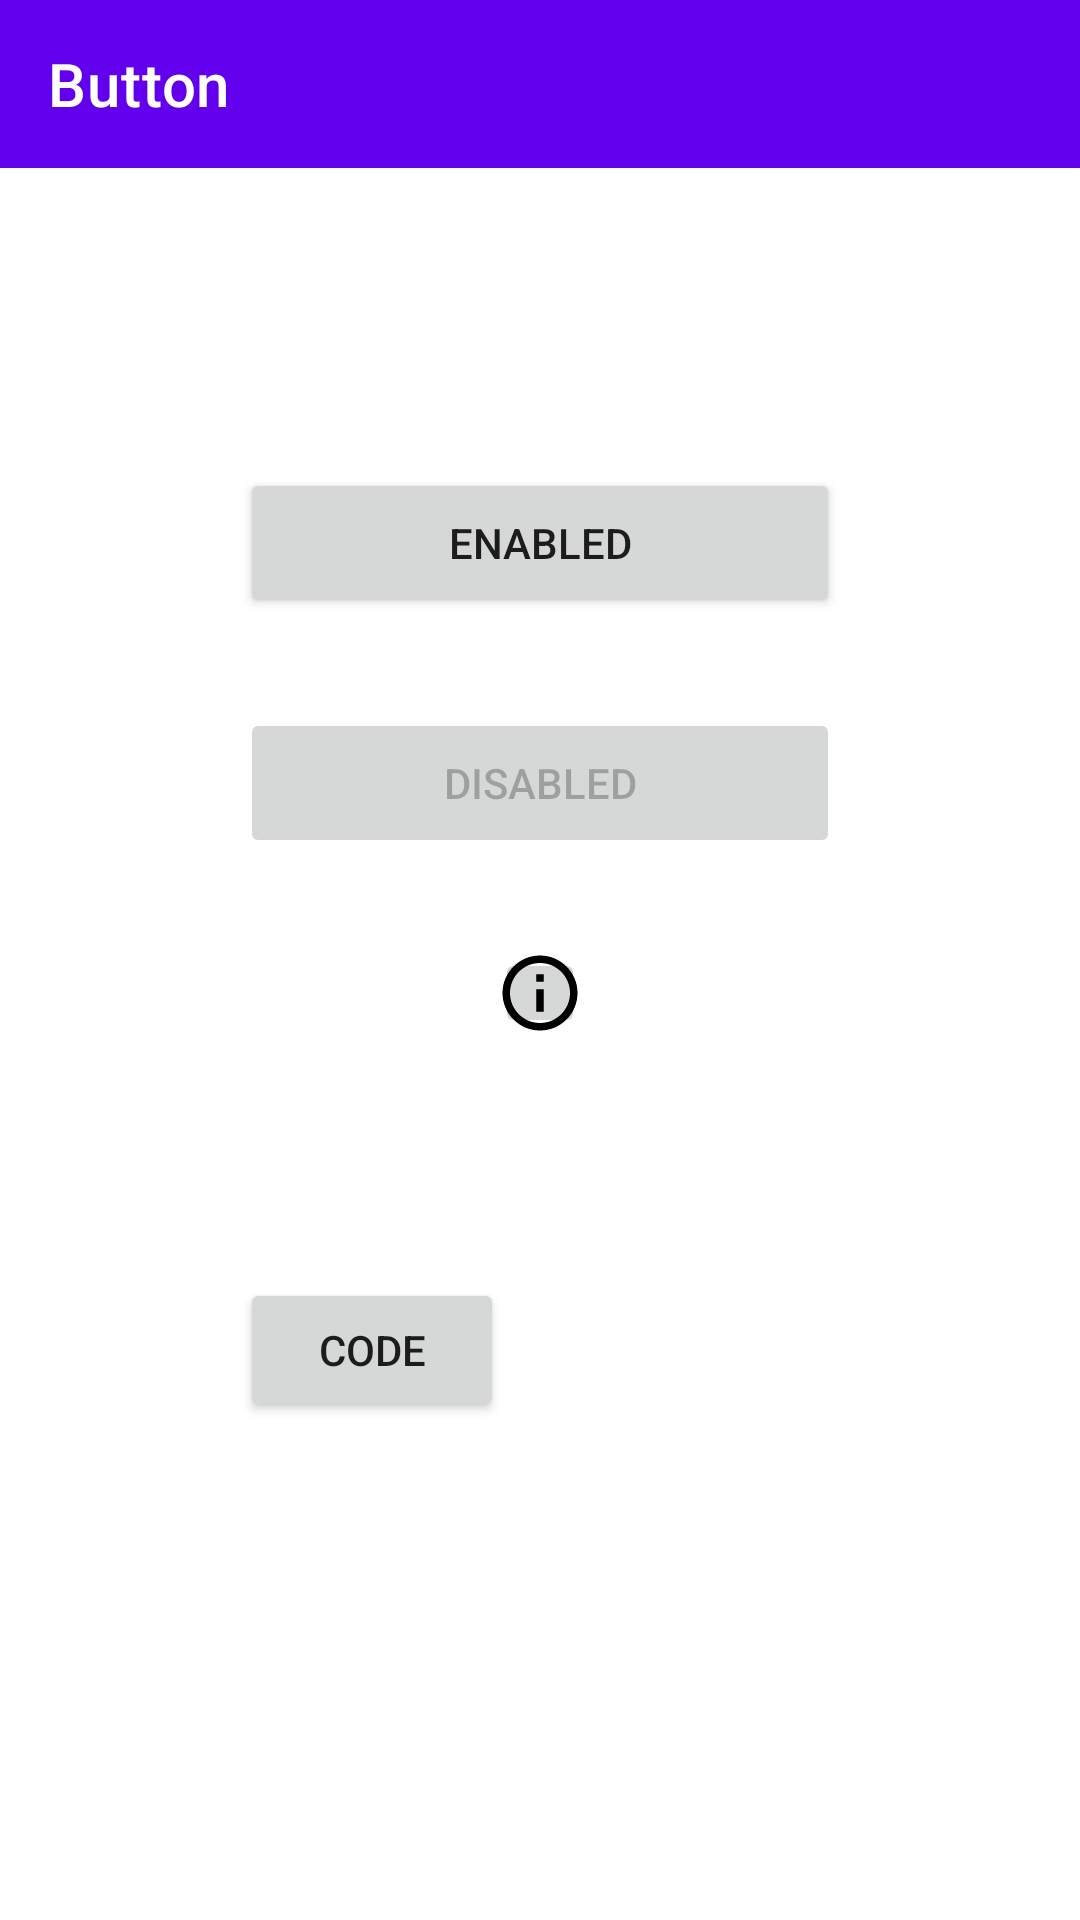

Screen size 1080x1920. Icon name, then its center in pixels as (x=x, y=y):
Information: (x=540, y=993)
